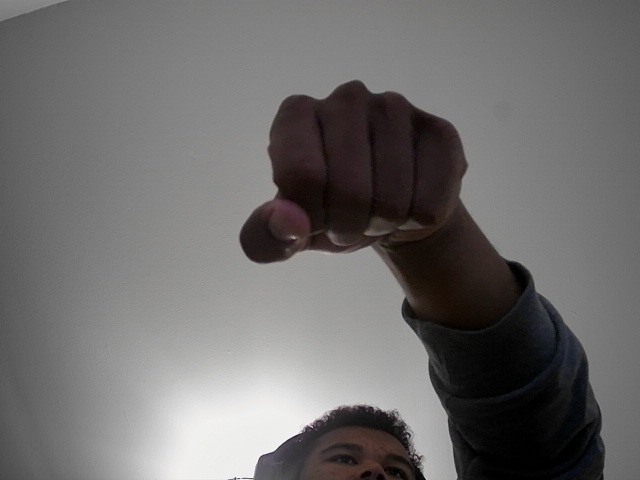Yes: (241, 75, 476, 266)
